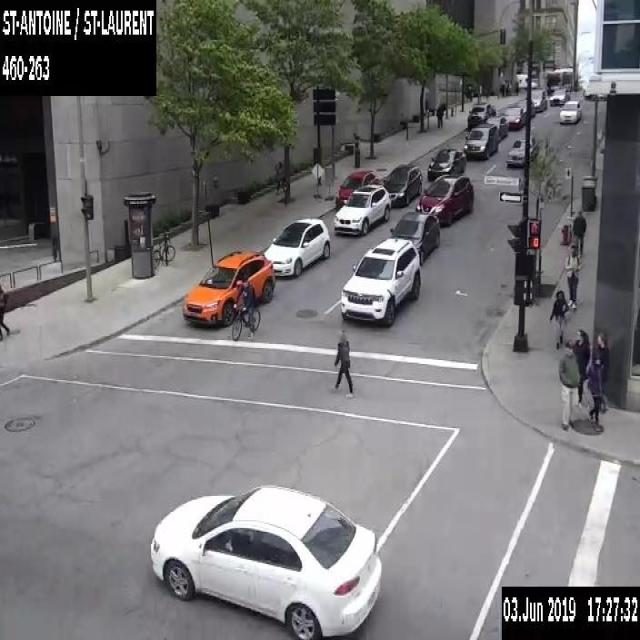bus: (545, 66, 573, 92)
construction: (311, 162, 324, 198), (324, 166, 334, 200)
cyclist: (231, 274, 260, 340)
pedestrian: (558, 339, 580, 429), (331, 328, 354, 397), (588, 352, 604, 432), (572, 328, 589, 402), (563, 242, 581, 308), (593, 332, 608, 411), (548, 289, 568, 348), (572, 208, 586, 256), (0, 285, 9, 340), (274, 159, 284, 193), (435, 103, 443, 128), (500, 83, 504, 96), (515, 80, 518, 94), (505, 83, 508, 95)
vehicle: (149, 482, 381, 638), (182, 249, 275, 326), (340, 237, 420, 326), (263, 216, 329, 276), (415, 173, 473, 224), (333, 183, 390, 234), (390, 210, 440, 264), (334, 169, 379, 208), (382, 163, 422, 204), (426, 148, 466, 180), (463, 122, 497, 158), (506, 134, 538, 166), (467, 102, 495, 128), (484, 115, 508, 139), (502, 105, 525, 128), (559, 100, 581, 122), (515, 98, 535, 117), (548, 88, 569, 106), (530, 88, 547, 110)
